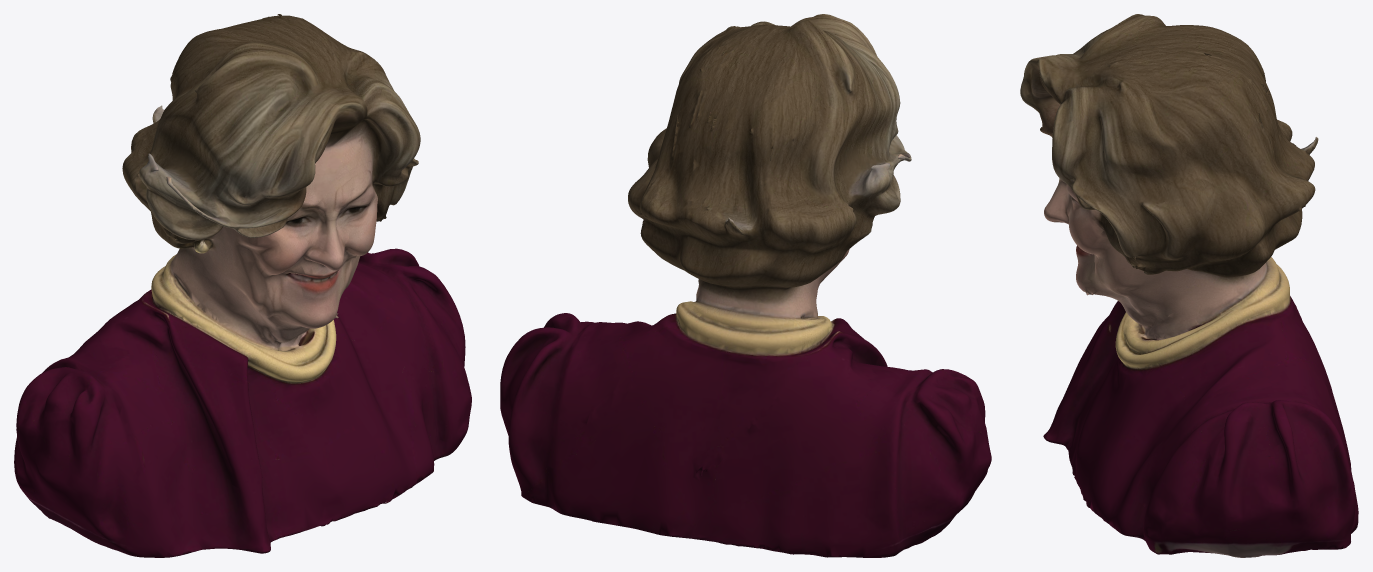
Rendered from queen_sonja_face.glb.
The picture shows the model from 3 angles, left to right: view 1: azimuth 30°, elevation 25°; view 2: azimuth 150°, elevation 25°; view 3: azimuth 270°, elevation 25°; orthographic projection. The views are drawn at different scales.
Bounding box in the file's own units: 1.89 × 1.85 × 1.28.
1 material, 1 textured.
